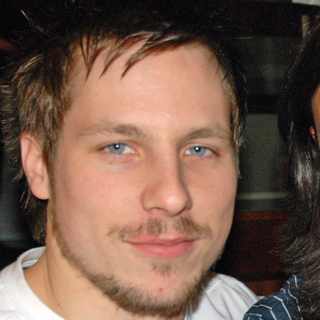eye: (94, 136, 144, 163), (175, 140, 223, 164)
